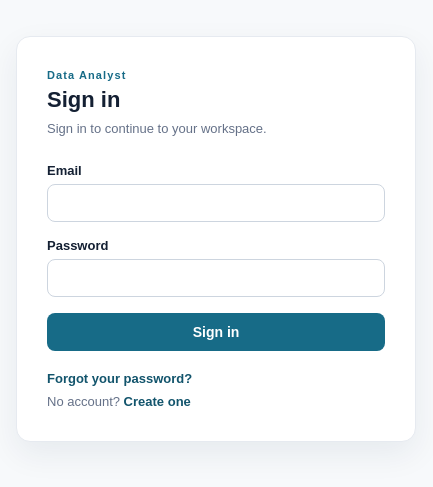
Test: LoginForm › shows the backend's generic invalid-credentials message on failure
Type "ada@example.com" into the field labelled "Email".
click(216, 203); type("ada@example.com")  # box left=47, top=184, right=385, bottom=222
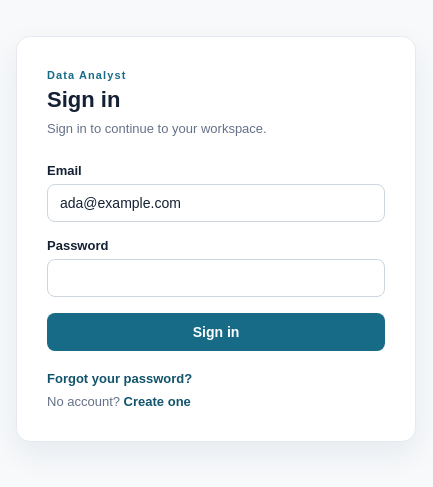
Type "wrong-password" into the password field labelled "Password".
click(216, 278); type("wrong-password")  # box left=47, top=259, right=385, bottom=297
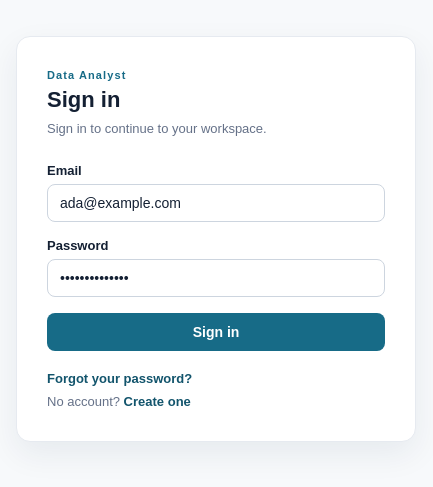
Click the button "Sign in".
click(216, 332)  # box left=47, top=313, right=385, bottom=351
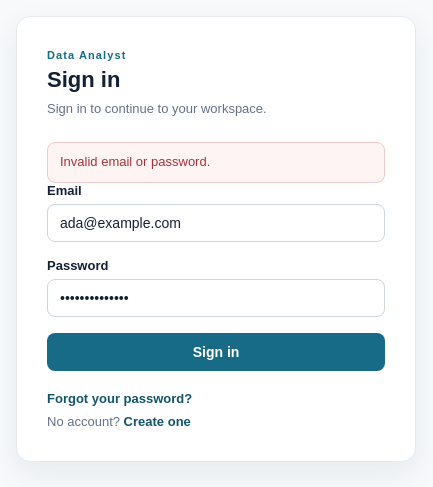
Expected: the message reads "Invalid email or password.", left=60, top=154, right=210, bottom=169
